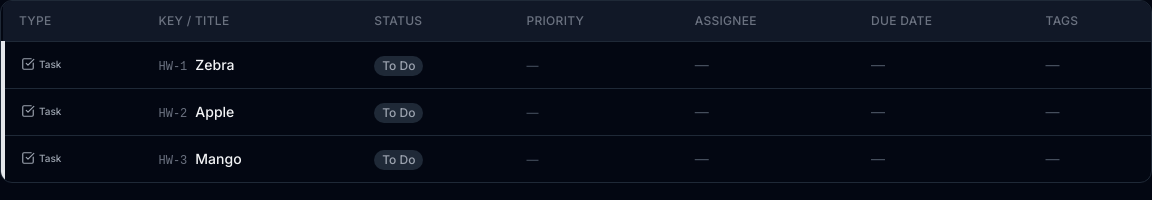
ListView › sorting › shows ascending sort indicator on active column
Click the text "Key / Title".
click(194, 21)  # box x1=158 y1=13 x2=229 y2=29
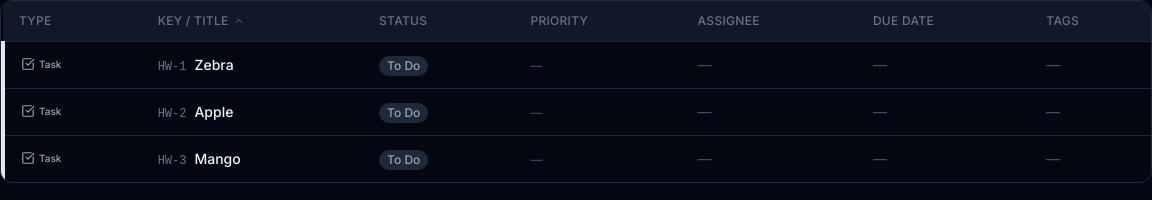
Result: the icon named "sort ascending" is shown at x1=233 y1=15 x2=245 y2=27
